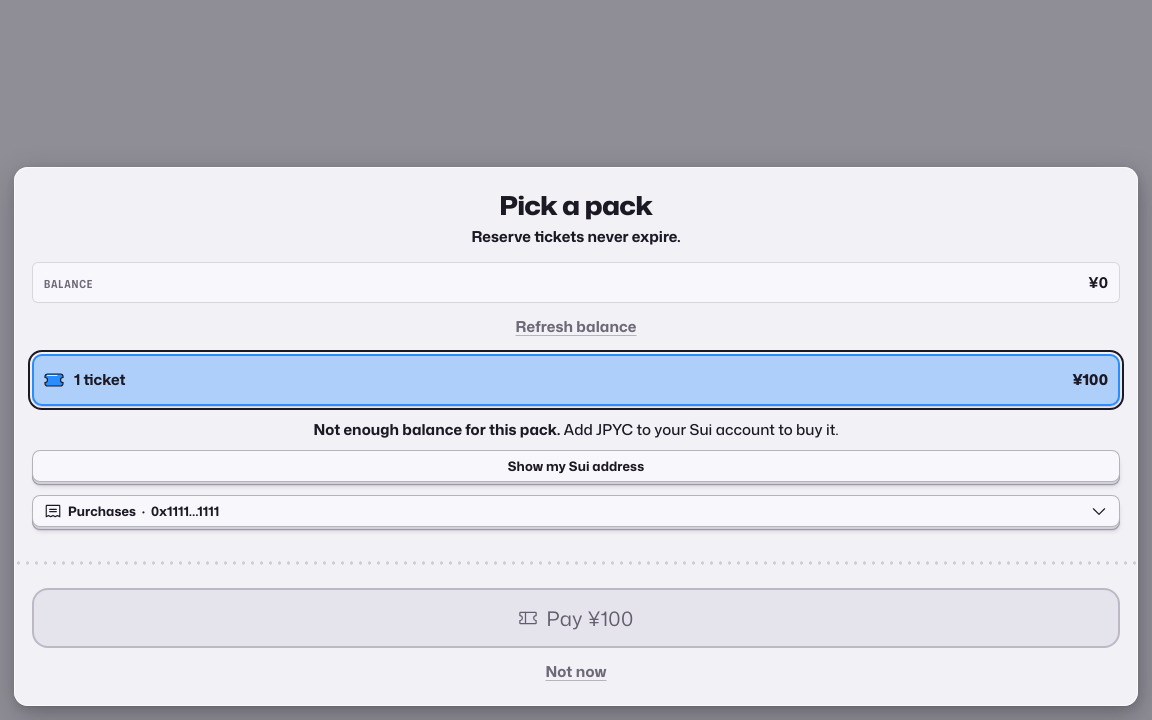
it: the open reserve ticket checkout › keeps a failed balance refresh and Sui's reason visible in the open checkout
The width and height of the screenshot is (1152, 720).
Click the button "Refresh balance".
click(576, 327)  # box [514,311,638,343]
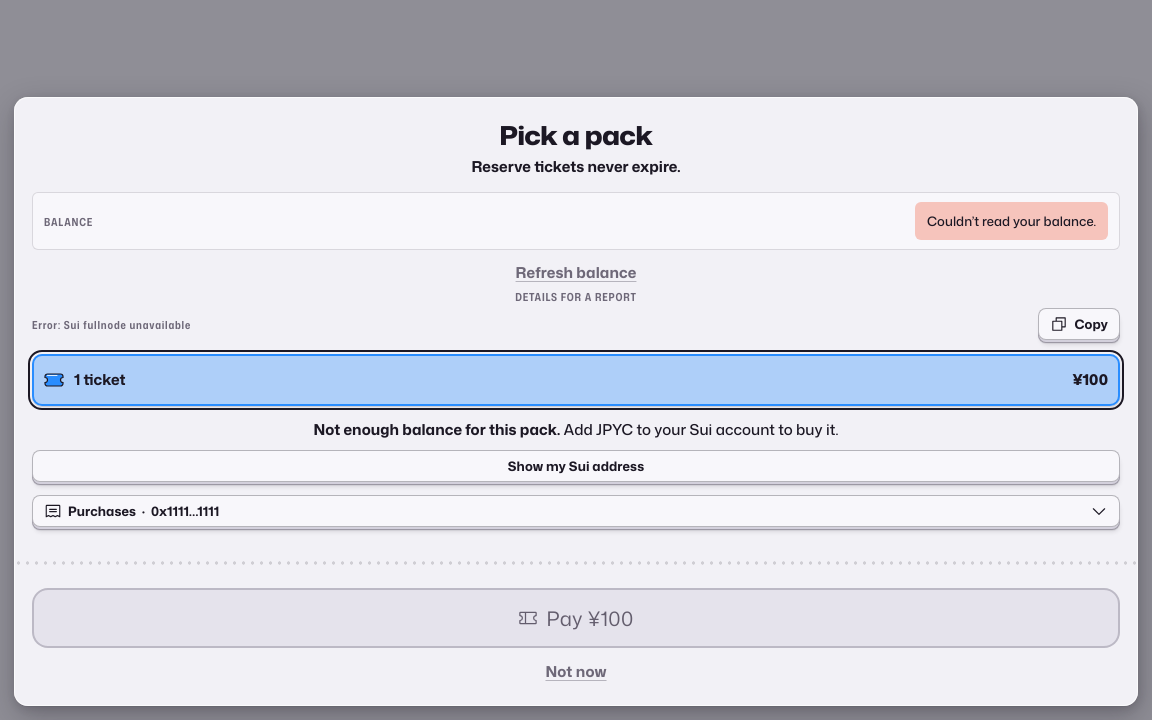
Check: the button "Refresh balance" is enabled, box [514,258,638,290]
Check: the message "Couldn’t read your balance." is shown, box [927,212,1096,230]
Check: the text with class "copyable-fine-print__text" reads "Error: Sui fullnode unavailable", box [32,317,191,333]
